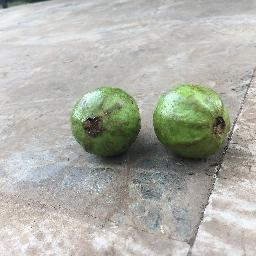Good_guava: (149, 80, 231, 159), (71, 86, 145, 159)
